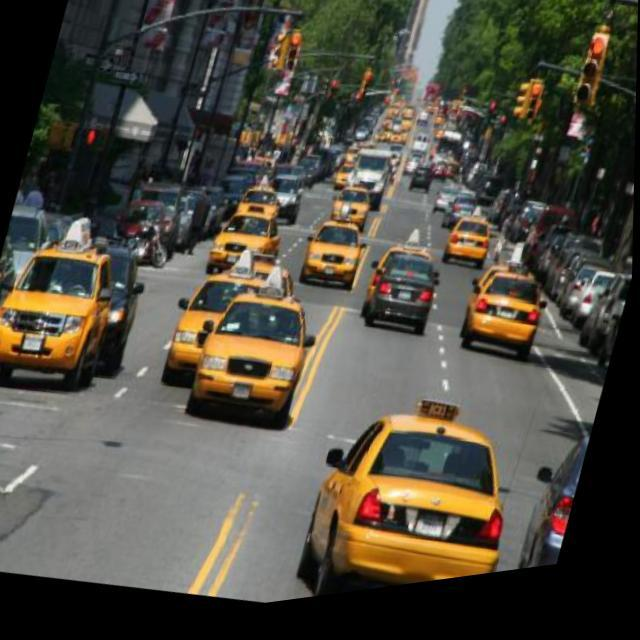license_plate: (416, 520, 450, 554), (22, 332, 47, 356), (233, 387, 255, 410), (224, 257, 240, 274), (399, 298, 414, 316), (501, 320, 517, 336), (462, 250, 477, 262), (324, 274, 336, 285)
